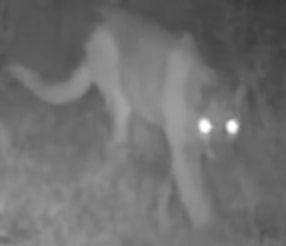Mountain Lion: (8, 9, 268, 237)
